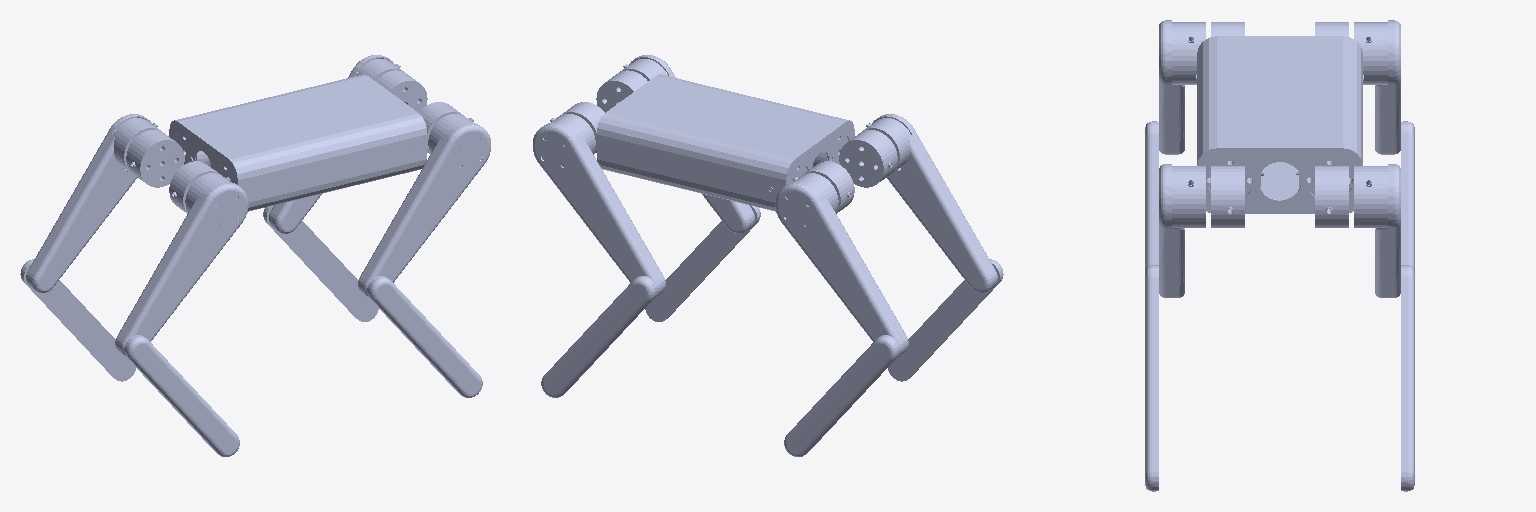
URDF robot description (stoch3_2016_no_axes):
<?xml version="1.0" encoding="utf-8"?>
<!-- This URDF was automatically created by SolidWorks to URDF Exporter! Originally created by [author] ([email redacted]) 
     Commit Version: 1.5.1-0-g916b5db  Build Version: 1.5.7152.31018
     For more information, please see http://wiki.ros.org/sw_urdf_exporter -->
<robot
  name="stoch3_2016_no_axes">
  <link
    name="base_link">
    <inertial>
      <origin
        xyz="6.5357E-17 -3.9573E-17 2.7158E-18"
        rpy="0 0 0" />
      <mass
        value="4.11" />
      <inertia
        ixx="0.0082534"
        ixy="-2.9089E-18"
        ixz="-1.9375E-20"
        iyy="0.01565"
        iyz="5.1387E-19"
        izz="0.020188" />
    </inertial>
    <visual>
      <origin
        xyz="0 0 0"
        rpy="0 0 0" />
      <geometry>
        <mesh
          filename="package://stoch3_2016_no_axes/meshes/base_link.STL" />
      </geometry>
      <material
        name="">
        <color
          rgba="0.79216 0.81961 0.93333 1" />
      </material>
    </visual>
    <collision>
      <origin
        xyz="0 0 0"
        rpy="0 0 0" />
      <geometry>
        <mesh
          filename="package://stoch3_2016_no_axes/meshes/base_link.STL" />
      </geometry>
    </collision>
  </link>
  <link
    name="motor_front_left_abd_link">
    <inertial>
      <origin
        xyz="0.042267 0.0017672 6.4461E-09"
        rpy="0 0 0" />
      <mass
        value="1.702" />
      <inertia
        ixx="0.00063429"
        ixy="1.7836E-13"
        ixz="9.5169E-11"
        iyy="0.00063429"
        iyz="-2.0068E-08"
        izz="0.00051618" />
    </inertial>
    <visual>
      <origin
        xyz="0 0 0"
        rpy="0 0 0" />
      <geometry>
        <mesh
          filename="package://stoch3_2016_no_axes/meshes/motor_front_left_abd_link.STL" />
      </geometry>
      <material
        name="">
        <color
          rgba="0.79216 0.81961 0.93333 1" />
      </material>
    </visual>
    <collision>
      <origin
        xyz="0 0 0"
        rpy="0 0 0" />
      <geometry>
        <mesh
          filename="package://stoch3_2016_no_axes/meshes/motor_front_left_abd_link.STL" />
      </geometry>
    </collision>
  </link>
  <joint
    name="motor_front_left_abd_joint"
    type="revolute">
    <origin
      xyz="0.1715 0.075 0"
      rpy="0 0 0" />
    <parent
      link="base_link" />
    <child
      link="motor_front_left_abd_link" />
    <axis
      xyz="-1 0 0" />
    <limit
      lower="0"
      upper="0"
      effort="0"
      velocity="0" />
  </joint>
  <link
    name="motor_fl_upper_hip_link">
    <inertial>
      <origin
        xyz="-0.026428 0.0081065 -0.031643"
        rpy="0 0 0" />
      <mass
        value="1.561" />
      <inertia
        ixx="0.0011269"
        ixy="-2.9331E-05"
        ixz="-0.0006139"
        iyy="0.0018192"
        iyz="-3.514E-05"
        izz="0.00090459" />
    </inertial>
    <visual>
      <origin
        xyz="0 0 0"
        rpy="0 0 0" />
      <geometry>
        <mesh
          filename="package://stoch3_2016_no_axes/meshes/motor_fl_upper_hip_link.STL" />
      </geometry>
      <material
        name="">
        <color
          rgba="0.79216 0.81961 0.93333 1" />
      </material>
    </visual>
    <collision>
      <origin
        xyz="0 0 0"
        rpy="0 0 0" />
      <geometry>
        <mesh
          filename="package://stoch3_2016_no_axes/meshes/motor_fl_upper_hip_link.STL" />
      </geometry>
    </collision>
  </link>
  <joint
    name="motor_fl_upper_hip_joint"
    type="continuous">
    <origin
      xyz="0.0844999999999999 0.0625000000000036 0"
      rpy="0 0 0" />
    <parent
      link="motor_front_left_abd_link" />
    <child
      link="motor_fl_upper_hip_link" />
    <axis
      xyz="0 -1 0" />
  </joint>
  <link
    name="motor_fl_upper_knee_link">
    <inertial>
      <origin
        xyz="0.093564 -0.0003826 -0.11724"
        rpy="0 0 0" />
      <mass
        value="0.125" />
      <inertia
        ixx="0.0019186"
        ixy="9.5355E-11"
        ixz="0.0014742"
        iyy="0.0031459"
        iyz="8.0663E-11"
        izz="0.0012478" />
    </inertial>
    <visual>
      <origin
        xyz="0 0 0"
        rpy="0 0 0" />
      <geometry>
        <mesh
          filename="package://stoch3_2016_no_axes/meshes/motor_fl_upper_knee_link.STL" />
      </geometry>
      <material
        name="">
        <color
          rgba="0.79216 0.81961 0.93333 1" />
      </material>
    </visual>
    <collision>
      <origin
        xyz="0 0 0"
        rpy="0 0 0" />
      <geometry>
        <mesh
          filename="package://stoch3_2016_no_axes/meshes/motor_fl_upper_knee_link.STL" />
      </geometry>
    </collision>
  </link>
  <joint
    name="motor_fl_upper_knee_joint"
    type="continuous">
    <origin
      xyz="-0.192307885658797 0.0555000000001379 -0.230255677700742"
      rpy="0 0 0" />
    <parent
      link="motor_fl_upper_hip_link" />
    <child
      link="motor_fl_upper_knee_link" />
    <axis
      xyz="0 -1 0" />
  </joint>
  <link
    name="motor_front_right_abd_link">
    <inertial>
      <origin
        xyz="0.042267 -0.0017671 -4.4384E-10"
        rpy="0 0 0" />
      <mass
        value="1.702" />
      <inertia
        ixx="0.00063429"
        ixy="5.138E-10"
        ixz="-5.8189E-11"
        iyy="0.00063429"
        iyz="-2.0068E-08"
        izz="0.00051618" />
    </inertial>
    <visual>
      <origin
        xyz="0 0 0"
        rpy="0 0 0" />
      <geometry>
        <mesh
          filename="package://stoch3_2016_no_axes/meshes/motor_front_right_abd_link.STL" />
      </geometry>
      <material
        name="">
        <color
          rgba="0.79216 0.81961 0.93333 1" />
      </material>
    </visual>
    <collision>
      <origin
        xyz="0 0 0"
        rpy="0 0 0" />
      <geometry>
        <mesh
          filename="package://stoch3_2016_no_axes/meshes/motor_front_right_abd_link.STL" />
      </geometry>
    </collision>
  </link>
  <joint
    name="motor_front_right_abd_joint"
    type="revolute">
    <origin
      xyz="0.1715 -0.075 0"
      rpy="0 0 0" />
    <parent
      link="base_link" />
    <child
      link="motor_front_right_abd_link" />
    <axis
      xyz="-1 0 0" />
    <limit
      lower="0"
      upper="0"
      effort="0"
      velocity="0" />
  </joint>
  <link
    name="motor_fr_upper_hip_link">
    <inertial>
      <origin
        xyz="-7.5452E-07 -0.041228 -0.017394"
        rpy="0 0 0" />
      <mass
        value="1.561" />
      <inertia
        ixx="0.0016397"
        ixy="-1.5804E-08"
        ixz="-1.5476E-08"
        iyy="0.00039187"
        iyz="-4.5774E-05"
        izz="0.0018192" />
    </inertial>
    <visual>
      <origin
        xyz="0 0 0"
        rpy="0 0 0" />
      <geometry>
        <mesh
          filename="package://stoch3_2016_no_axes/meshes/motor_fr_upper_hip_link.STL" />
      </geometry>
      <material
        name="">
        <color
          rgba="0.79216 0.81961 0.93333 1" />
      </material>
    </visual>
    <collision>
      <origin
        xyz="0 0 0"
        rpy="0 0 0" />
      <geometry>
        <mesh
          filename="package://stoch3_2016_no_axes/meshes/motor_fr_upper_hip_link.STL" />
      </geometry>
    </collision>
  </link>
  <joint
    name="motor_fr_upper_hip_link"
    type="fixed">
    <origin
      xyz="0.0845000000000003 -0.0879999999999989 0"
      rpy="1.5707963267949 0.695834667080548 0" />
    <parent
      link="motor_front_right_abd_link" />
    <child
      link="motor_fr_upper_hip_link" />
    <axis
      xyz="0 0 0" />
  </joint>
  <link
    name="motor_fr_upper_knee_link">
    <inertial>
      <origin
        xyz="0.093565 0.0003826 -0.11724"
        rpy="0 0 0" />
      <mass
        value="0.125" />
      <inertia
        ixx="0.0019186"
        ixy="9.9804E-11"
        ixz="0.0014742"
        iyy="0.0031459"
        iyz="7.5087E-11"
        izz="0.0012478" />
    </inertial>
    <visual>
      <origin
        xyz="0 0 0"
        rpy="0 0 0" />
      <geometry>
        <mesh
          filename="package://stoch3_2016_no_axes/meshes/motor_fr_upper_knee_link.STL" />
      </geometry>
      <material
        name="">
        <color
          rgba="0.79216 0.81961 0.93333 1" />
      </material>
    </visual>
    <collision>
      <origin
        xyz="0 0 0"
        rpy="0 0 0" />
      <geometry>
        <mesh
          filename="package://stoch3_2016_no_axes/meshes/motor_fr_upper_knee_link.STL" />
      </geometry>
    </collision>
  </link>
  <joint
    name="motor_fr_upper_knee_joint"
    type="continuous">
    <origin
      xyz="0 -0.300000000000129 0.0299999999998625"
      rpy="-1.5707963267949 0 0.695834667080548" />
    <parent
      link="motor_fr_upper_hip_link" />
    <child
      link="motor_fr_upper_knee_link" />
    <axis
      xyz="0 -1 0" />
  </joint>
  <link
    name="motor_back_left_abd_link">
    <inertial>
      <origin
        xyz="-0.042267 0.0017671 4.4356E-10"
        rpy="0 0 0" />
      <mass
        value="1.702" />
      <inertia
        ixx="0.00063429"
        ixy="5.1342E-10"
        ixz="5.3528E-11"
        iyy="0.00063429"
        iyz="-1.9957E-08"
        izz="0.00051618" />
    </inertial>
    <visual>
      <origin
        xyz="0 0 0"
        rpy="0 0 0" />
      <geometry>
        <mesh
          filename="package://stoch3_2016_no_axes/meshes/motor_back_left_abd_link.STL" />
      </geometry>
      <material
        name="">
        <color
          rgba="0.79216 0.81961 0.93333 1" />
      </material>
    </visual>
    <collision>
      <origin
        xyz="0 0 0"
        rpy="0 0 0" />
      <geometry>
        <mesh
          filename="package://stoch3_2016_no_axes/meshes/motor_back_left_abd_link.STL" />
      </geometry>
    </collision>
  </link>
  <joint
    name="motor_back_left_abd_joint"
    type="revolute">
    <origin
      xyz="-0.1715 0.075 0"
      rpy="0 0 0" />
    <parent
      link="base_link" />
    <child
      link="motor_back_left_abd_link" />
    <axis
      xyz="1 0 0" />
    <limit
      lower="0"
      upper="0"
      effort="0"
      velocity="0" />
  </joint>
  <link
    name="motor_bl_upper_hip_link">
    <inertial>
      <origin
        xyz="-0.026428 0.0081065 -0.031643"
        rpy="0 0 0" />
      <mass
        value="1.561" />
      <inertia
        ixx="0.0011269"
        ixy="-2.9331E-05"
        ixz="-0.0006139"
        iyy="0.0018192"
        iyz="-3.514E-05"
        izz="0.00090459" />
    </inertial>
    <visual>
      <origin
        xyz="0 0 0"
        rpy="0 0 0" />
      <geometry>
        <mesh
          filename="package://stoch3_2016_no_axes/meshes/motor_bl_upper_hip_link.STL" />
      </geometry>
      <material
        name="">
        <color
          rgba="0.79216 0.81961 0.93333 1" />
      </material>
    </visual>
    <collision>
      <origin
        xyz="0 0 0"
        rpy="0 0 0" />
      <geometry>
        <mesh
          filename="package://stoch3_2016_no_axes/meshes/motor_bl_upper_hip_link.STL" />
      </geometry>
    </collision>
  </link>
  <joint
    name="motor_bl_upper_hip_joint"
    type="continuous">
    <origin
      xyz="-0.0845000000000005 0.062500000000128 0"
      rpy="0 0 0" />
    <parent
      link="motor_back_left_abd_link" />
    <child
      link="motor_bl_upper_hip_link" />
    <axis
      xyz="0 -1 0" />
  </joint>
  <link
    name="motor_bl_upper_knee_link">
    <inertial>
      <origin
        xyz="0.093564 -0.0003826 -0.11724"
        rpy="0 0 0" />
      <mass
        value="0.125" />
      <inertia
        ixx="0.0019186"
        ixy="9.5355E-11"
        ixz="0.0014742"
        iyy="0.0031459"
        iyz="8.0663E-11"
        izz="0.0012478" />
    </inertial>
    <visual>
      <origin
        xyz="0 0 0"
        rpy="0 0 0" />
      <geometry>
        <mesh
          filename="package://stoch3_2016_no_axes/meshes/motor_bl_upper_knee_link.STL" />
      </geometry>
      <material
        name="">
        <color
          rgba="0.79216 0.81961 0.93333 1" />
      </material>
    </visual>
    <collision>
      <origin
        xyz="0 0 0"
        rpy="0 0 0" />
      <geometry>
        <mesh
          filename="package://stoch3_2016_no_axes/meshes/motor_bl_upper_knee_link.STL" />
      </geometry>
    </collision>
  </link>
  <joint
    name="motor_bl_upper_knee_joint"
    type="continuous">
    <origin
      xyz="-0.192307885658797 0.0555000000001373 -0.230255677700675"
      rpy="0 0 0" />
    <parent
      link="motor_bl_upper_hip_link" />
    <child
      link="motor_bl_upper_knee_link" />
    <axis
      xyz="0 -1 0" />
  </joint>
  <link
    name="motor_back_right_abd_link">
    <inertial>
      <origin
        xyz="-0.042267 -0.0017672 7.3335E-09"
        rpy="0 0 0" />
      <mass
        value="1.702" />
      <inertia
        ixx="0.00063429"
        ixy="-1.9951E-13"
        ixz="-9.9829E-11"
        iyy="0.00063429"
        iyz="-1.9957E-08"
        izz="0.00051618" />
    </inertial>
    <visual>
      <origin
        xyz="0 0 0"
        rpy="0 0 0" />
      <geometry>
        <mesh
          filename="package://stoch3_2016_no_axes/meshes/motor_back_right_abd_link.STL" />
      </geometry>
      <material
        name="">
        <color
          rgba="0.79216 0.81961 0.93333 1" />
      </material>
    </visual>
    <collision>
      <origin
        xyz="0 0 0"
        rpy="0 0 0" />
      <geometry>
        <mesh
          filename="package://stoch3_2016_no_axes/meshes/motor_back_right_abd_link.STL" />
      </geometry>
    </collision>
  </link>
  <joint
    name="motor_back_right_abd_joint"
    type="revolute">
    <origin
      xyz="-0.1715 -0.075 0"
      rpy="0 0 0" />
    <parent
      link="base_link" />
    <child
      link="motor_back_right_abd_link" />
    <axis
      xyz="1 0 0" />
    <limit
      lower="0"
      upper="0"
      effort="0"
      velocity="0" />
  </joint>
  <link
    name="motor_br_upper_hip_link">
    <inertial>
      <origin
        xyz="-0.026429 -0.0081064 -0.031643"
        rpy="0 0 0" />
      <mass
        value="1.561" />
      <inertia
        ixx="0.0011269"
        ixy="2.9354E-05"
        ixz="-0.00061391"
        iyy="0.0018192"
        iyz="3.5122E-05"
        izz="0.00090462" />
    </inertial>
    <visual>
      <origin
        xyz="0 0 0"
        rpy="0 0 0" />
      <geometry>
        <mesh
          filename="package://stoch3_2016_no_axes/meshes/motor_br_upper_hip_link.STL" />
      </geometry>
      <material
        name="">
        <color
          rgba="0.79216 0.81961 0.93333 1" />
      </material>
    </visual>
    <collision>
      <origin
        xyz="0 0 0"
        rpy="0 0 0" />
      <geometry>
        <mesh
          filename="package://stoch3_2016_no_axes/meshes/motor_br_upper_hip_link.STL" />
      </geometry>
    </collision>
  </link>
  <joint
    name="motor_br_upper_hip_joint"
    type="continuous">
    <origin
      xyz="-0.0844999999999999 -0.0624999999999987 0"
      rpy="0 0 0" />
    <parent
      link="motor_back_right_abd_link" />
    <child
      link="motor_br_upper_hip_link" />
    <axis
      xyz="0 -1 0" />
  </joint>
  <link
    name="motor_br_upper_knee_link">
    <inertial>
      <origin
        xyz="0.093565 0.0003826 -0.11724"
        rpy="0 0 0" />
      <mass
        value="0.125" />
      <inertia
        ixx="0.0019186"
        ixy="9.9804E-11"
        ixz="0.0014742"
        iyy="0.0031459"
        iyz="7.5087E-11"
        izz="0.0012478" />
    </inertial>
    <visual>
      <origin
        xyz="0 0 0"
        rpy="0 0 0" />
      <geometry>
        <mesh
          filename="package://stoch3_2016_no_axes/meshes/motor_br_upper_knee_link.STL" />
      </geometry>
      <material
        name="">
        <color
          rgba="0.79216 0.81961 0.93333 1" />
      </material>
    </visual>
    <collision>
      <origin
        xyz="0 0 0"
        rpy="0 0 0" />
      <geometry>
        <mesh
          filename="package://stoch3_2016_no_axes/meshes/motor_br_upper_knee_link.STL" />
      </geometry>
    </collision>
  </link>
  <joint
    name="motor_br_upper_knee_joint"
    type="fixed">
    <origin
      xyz="-0.192307885658796 -0.0554999999998631 -0.230255677700808"
      rpy="0 0 0" />
    <parent
      link="motor_br_upper_hip_link" />
    <child
      link="motor_br_upper_knee_link" />
    <axis
      xyz="0 0 0" />
  </joint>
</robot>

--- What the picture shows (computed from the rendered views, not written in the file) ---
3 views of the same robot in one strip: view 1: azimuth 30°, elevation 25°; view 2: azimuth 150°, elevation 25°; view 3: azimuth 270°, elevation 25° (orthographic).
Model stoch3_2016_no_axes with 13 links and 12 joints (4 revolute, 6 continuous, 2 fixed), rooted at base_link, posed every joint at zero.
Links seen in each view (by area): view 1: base_link, motor_br_upper_hip_link, motor_fr_upper_hip_link, motor_bl_upper_hip_link, motor_fr_upper_knee_link, motor_br_upper_knee_link, motor_bl_upper_knee_link, motor_fl_upper_knee_link, motor_back_left_abd_link, motor_fl_upper_hip_link, motor_front_left_abd_link, motor_back_right_abd_link (+1 smaller); view 2: base_link, motor_bl_upper_hip_link, motor_fl_upper_hip_link, motor_br_upper_hip_link, motor_fl_upper_knee_link, motor_bl_upper_knee_link, motor_br_upper_knee_link, motor_fr_upper_knee_link, motor_back_right_abd_link, motor_fr_upper_hip_link, motor_front_right_abd_link, motor_back_left_abd_link (+1 smaller); view 3: base_link, motor_fl_upper_hip_link, motor_fr_upper_hip_link, motor_br_upper_hip_link, motor_bl_upper_hip_link, motor_fl_upper_knee_link, motor_fr_upper_knee_link, motor_front_right_abd_link, motor_front_left_abd_link, motor_bl_upper_knee_link, motor_br_upper_knee_link.
Boxes of the visible links, bbox=[...] form: base_link: bbox=[169, 74, 426, 211]; motor_br_upper_hip_link: bbox=[115, 173, 248, 356]; motor_fr_upper_hip_link: bbox=[358, 114, 490, 297]; motor_bl_upper_hip_link: bbox=[26, 114, 160, 292]; motor_fr_upper_knee_link: bbox=[367, 276, 482, 397]; motor_br_upper_knee_link: bbox=[124, 335, 239, 456]; motor_bl_upper_knee_link: bbox=[20, 259, 135, 381]; motor_fl_upper_knee_link: bbox=[263, 205, 378, 321]; motor_back_left_abd_link: bbox=[126, 130, 211, 187]; motor_fl_upper_hip_link: bbox=[269, 55, 403, 233]; motor_front_left_abd_link: bbox=[376, 70, 427, 112]; motor_back_right_abd_link: bbox=[169, 161, 255, 213]; base_link: bbox=[597, 74, 854, 211]; motor_bl_upper_hip_link: bbox=[775, 173, 908, 356]; motor_fl_upper_hip_link: bbox=[533, 114, 665, 297]; motor_br_upper_hip_link: bbox=[863, 114, 997, 292]; motor_fl_upper_knee_link: bbox=[541, 276, 656, 397]; motor_bl_upper_knee_link: bbox=[784, 335, 899, 456]; motor_br_upper_knee_link: bbox=[888, 259, 1003, 381]; motor_fr_upper_knee_link: bbox=[645, 205, 760, 321]; motor_back_right_abd_link: bbox=[812, 130, 897, 187]; motor_fr_upper_hip_link: bbox=[620, 55, 754, 233]; motor_front_right_abd_link: bbox=[596, 70, 647, 112]; motor_back_left_abd_link: bbox=[768, 161, 854, 213]; base_link: bbox=[1197, 36, 1362, 213]; motor_fl_upper_hip_link: bbox=[1354, 164, 1400, 297]; motor_fr_upper_hip_link: bbox=[1159, 164, 1205, 297]; motor_br_upper_hip_link: bbox=[1159, 20, 1205, 154]; motor_bl_upper_hip_link: bbox=[1354, 20, 1400, 154]; motor_fl_upper_knee_link: bbox=[1401, 265, 1414, 491]; motor_fr_upper_knee_link: bbox=[1145, 265, 1158, 491]; motor_front_right_abd_link: bbox=[1207, 161, 1263, 227]; motor_front_left_abd_link: bbox=[1296, 161, 1352, 227]; motor_bl_upper_knee_link: bbox=[1401, 121, 1414, 270]; motor_br_upper_knee_link: bbox=[1145, 121, 1158, 270].
Size in the robot's own frame: 0.7803 by 0.406 by 0.5447 metres.
13 mesh visuals loaded from 13 distinct referenced files (13 binary STL).